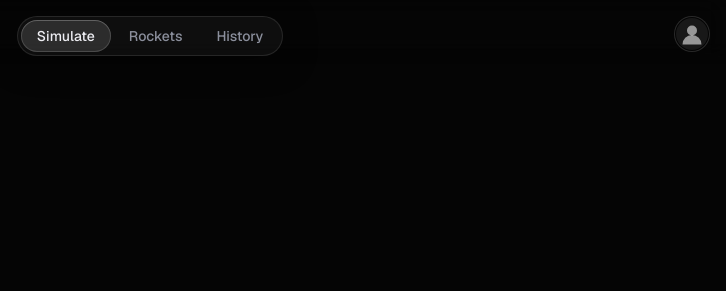
Test: AccountMenu › offers the language switch inside the panel
Click the button named "Account": (692, 34) [674,16,710,52]
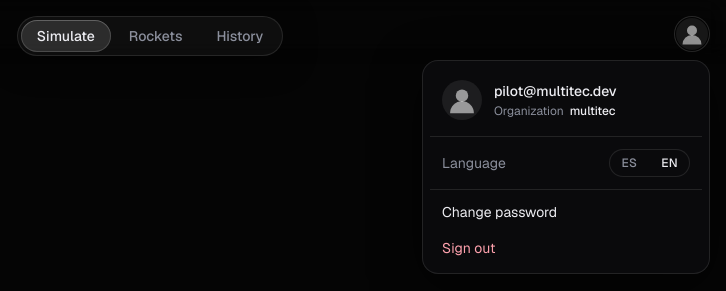
Click the button with aria-label "Español": (629, 163) [610,149,649,177]
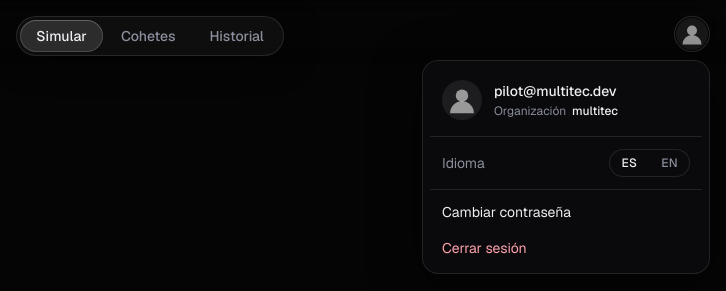
Check: the button named "Cuenta" is shown, box [674,16,710,52]
Check: the text "Organización" is shown, box [494,103,566,119]
